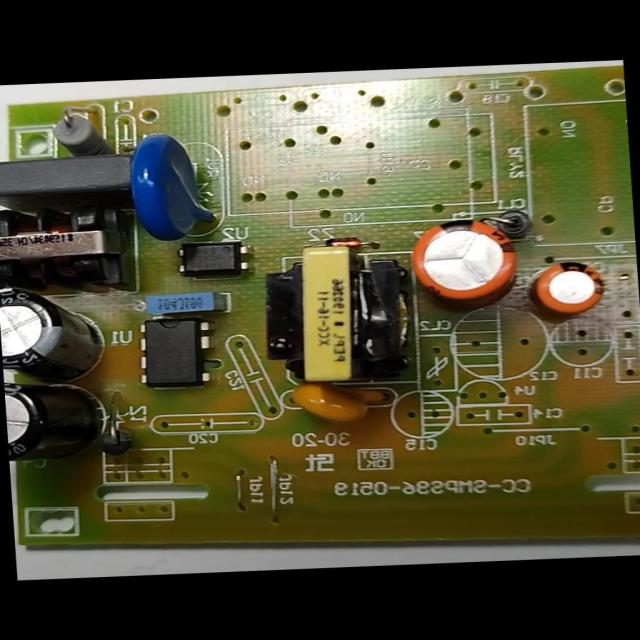Cap1: (403, 213, 525, 305)
Cap2: (530, 257, 613, 313)
Cap3: (0, 283, 108, 381)
Cap4: (4, 375, 114, 462)
MOSFET: (134, 316, 212, 385)
Mov: (125, 126, 224, 242)
Resistor: (42, 108, 110, 156)
Transformer: (260, 240, 410, 388), (0, 198, 128, 291)
